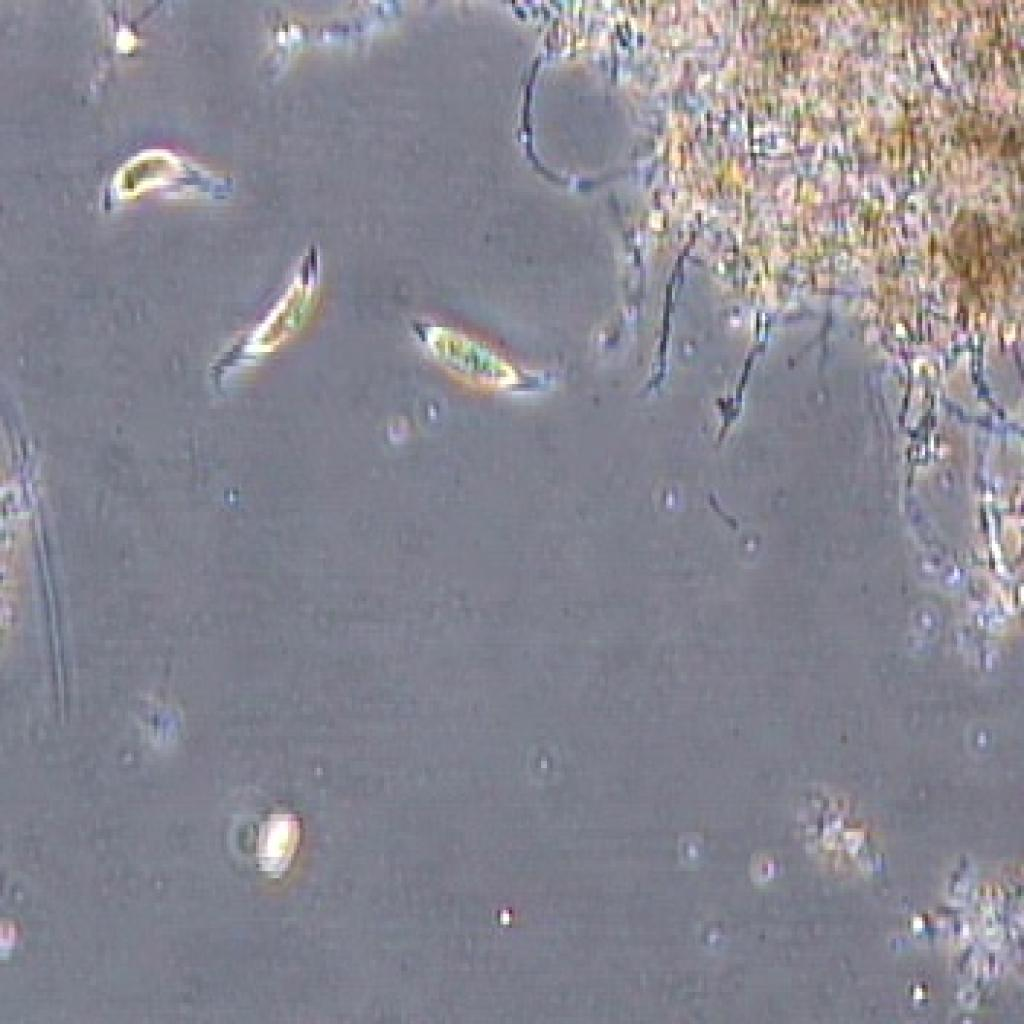Pristina: (196, 240, 336, 411), (407, 276, 570, 418), (61, 144, 242, 226)
